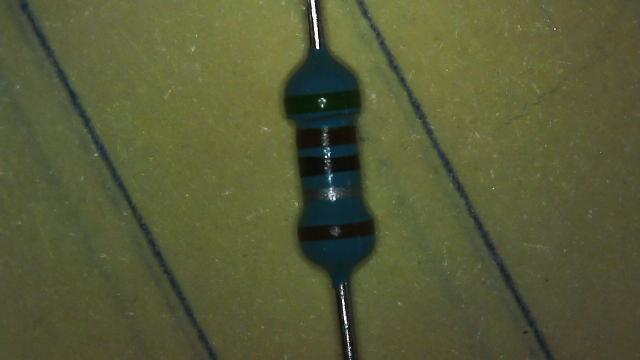black: (299, 154, 358, 177)
brown: (298, 220, 374, 240), (296, 124, 356, 148)
green: (285, 90, 360, 114)
resistor: (272, 45, 393, 288)
silver: (304, 185, 361, 201)
